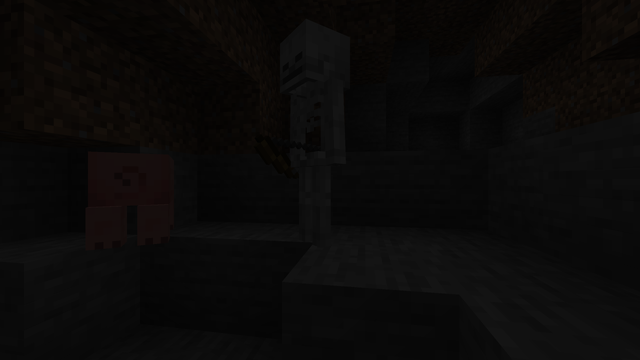cochons: (61, 149, 201, 246)
squelettes: (274, 20, 345, 252)
